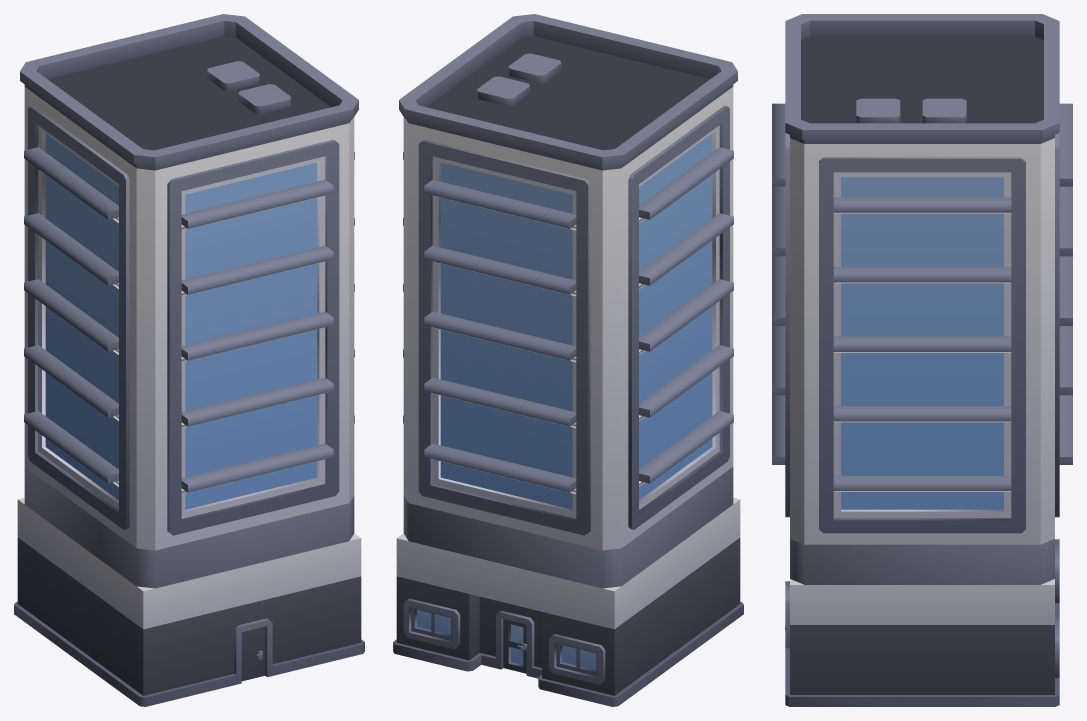
The model's file is tower_0.fbx.
3 renders of one model, left to right at view 1: azimuth 30°, elevation 25°; view 2: azimuth 150°, elevation 25°; view 3: azimuth 270°, elevation 25°, orthographic. The views are drawn at different scales.
Visible parts, largest first — view 1: tower_0; view 2: tower_0; view 3: tower_0.
Boxes of the visible parts, box(x1,y1,x2,y2) form: tower_0: box(14, 14, 364, 706); tower_0: box(393, 14, 743, 706); tower_0: box(772, 14, 1072, 706).
Bounding box in the file's own units: 1.36 × 2.88 × 1.36.
Materials: 1 (1 with a texture image).
